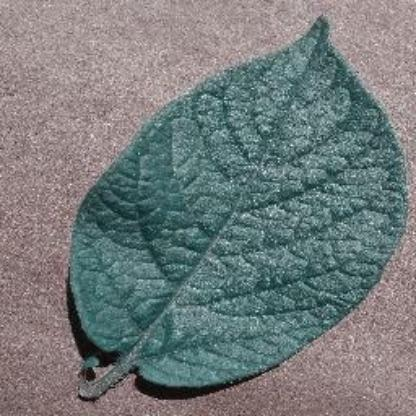Healthy-plant: (64, 14, 406, 400)
